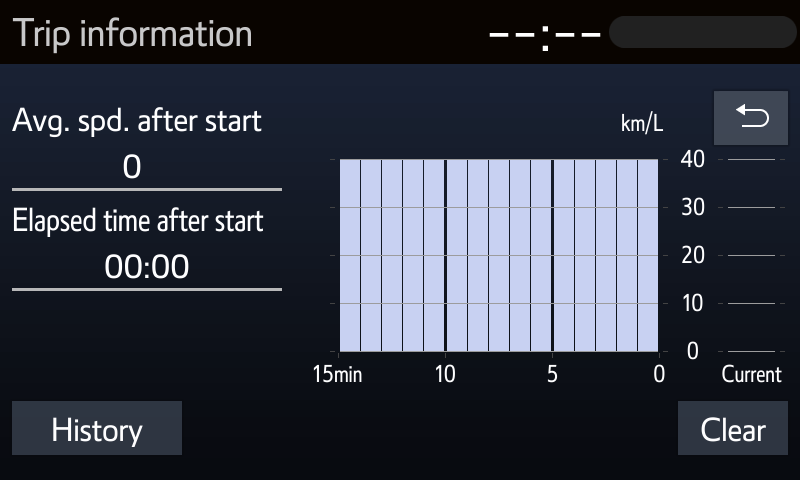touchPart: (12, 399, 180, 455), (678, 402, 787, 454), (712, 91, 787, 146)
untouchPart: (317, 149, 786, 391), (9, 99, 287, 306), (8, 10, 253, 52), (608, 12, 797, 51), (476, 15, 604, 53)
